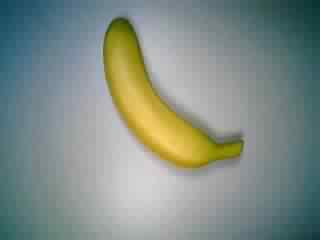banana: (100, 15, 246, 171)
